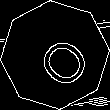O_NW: (22, 22, 88, 88)
